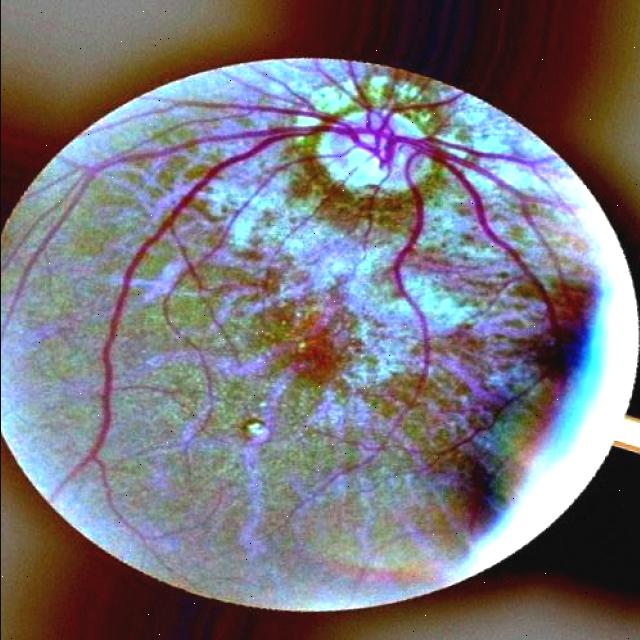Nerves: (66, 63, 554, 480)
Optic Disk: (318, 104, 434, 195)
